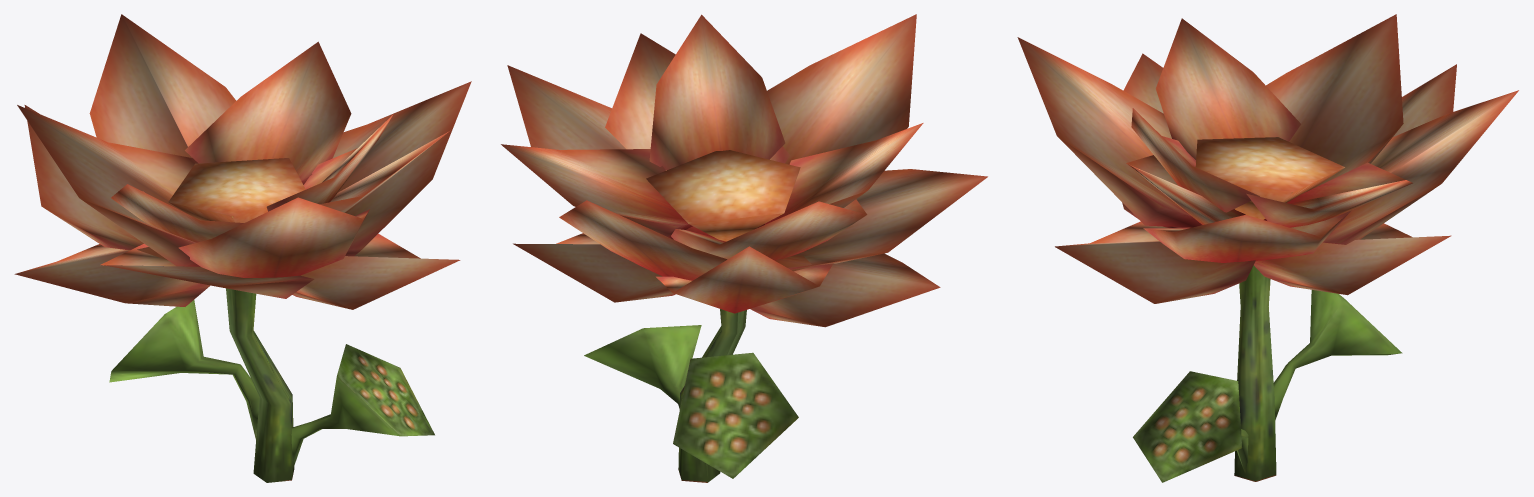
Rendered from n_lotus01.glb.
The picture shows the model from 3 angles, left to right: view 1: azimuth 30°, elevation 25°; view 2: azimuth 150°, elevation 25°; view 3: azimuth 270°, elevation 25°; orthographic projection. The views are drawn at different scales.
Visible parts, largest first — view 1: n_lotus01; view 2: n_lotus01; view 3: n_lotus01.
Part boxes in pixels (x1,y1,x2,y2): n_lotus01: [14, 14, 471, 482]; n_lotus01: [501, 14, 987, 482]; n_lotus01: [1017, 14, 1518, 482].
Size of the model in its own units: 2.93 by 2.49 by 2.88.
Materials: 1 (1 with a texture image).
